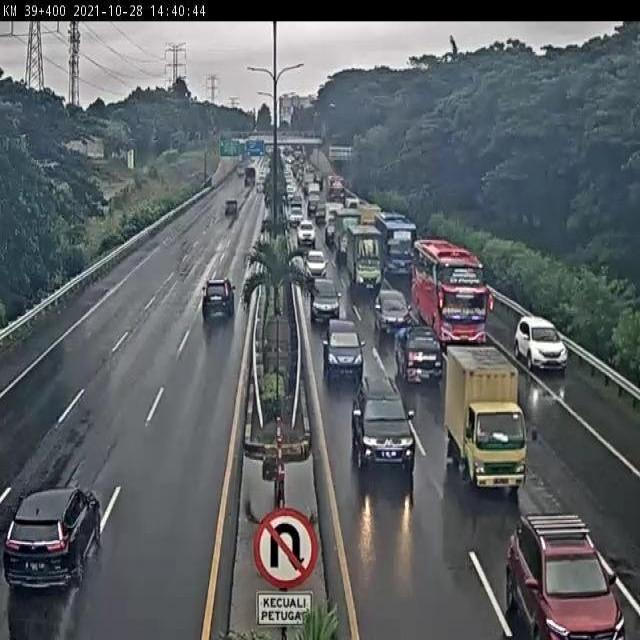bus-l-: (411, 237, 489, 348), (373, 214, 419, 282)
car: (506, 512, 628, 640), (353, 376, 416, 469), (513, 315, 569, 376), (396, 324, 447, 387), (319, 311, 362, 373), (308, 273, 343, 323), (374, 288, 411, 335), (200, 276, 237, 320), (303, 248, 329, 280)
mid truck: (3, 481, 104, 588)
truck-m-: (345, 224, 384, 291)
truck-s-: (444, 344, 530, 492)
